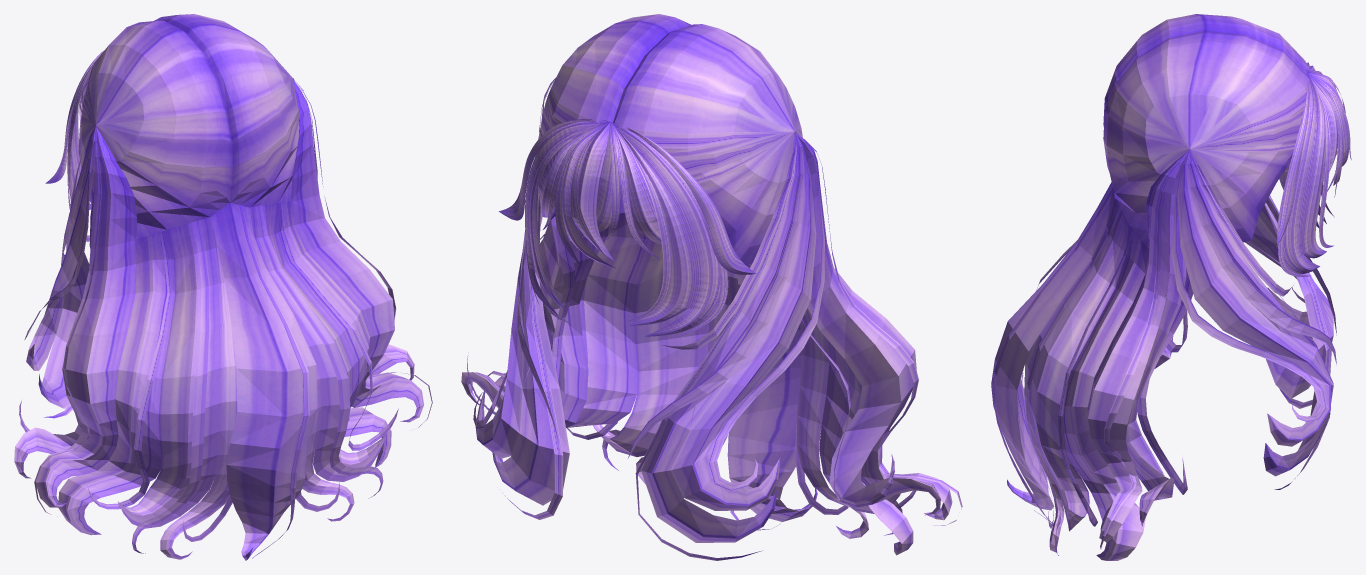
The model's file is hair_2__Object_11.glb.
The picture shows the model from 3 angles, left to right: view 1: azimuth 30°, elevation 25°; view 2: azimuth 150°, elevation 25°; view 3: azimuth 270°, elevation 25°; orthographic projection. The views are drawn at different scales.
Visible parts, largest first — view 1: geometry_0; view 2: geometry_0; view 3: geometry_0.
Boxes of the visible parts, x1,y1,x2,y2 form: geometry_0: (14,14,432,560); geometry_0: (461,14,962,560); geometry_0: (991,14,1351,560).
Bounding box in the file's own units: 2.53 × 2.85 × 1.87.
1 material, 1 textured.
